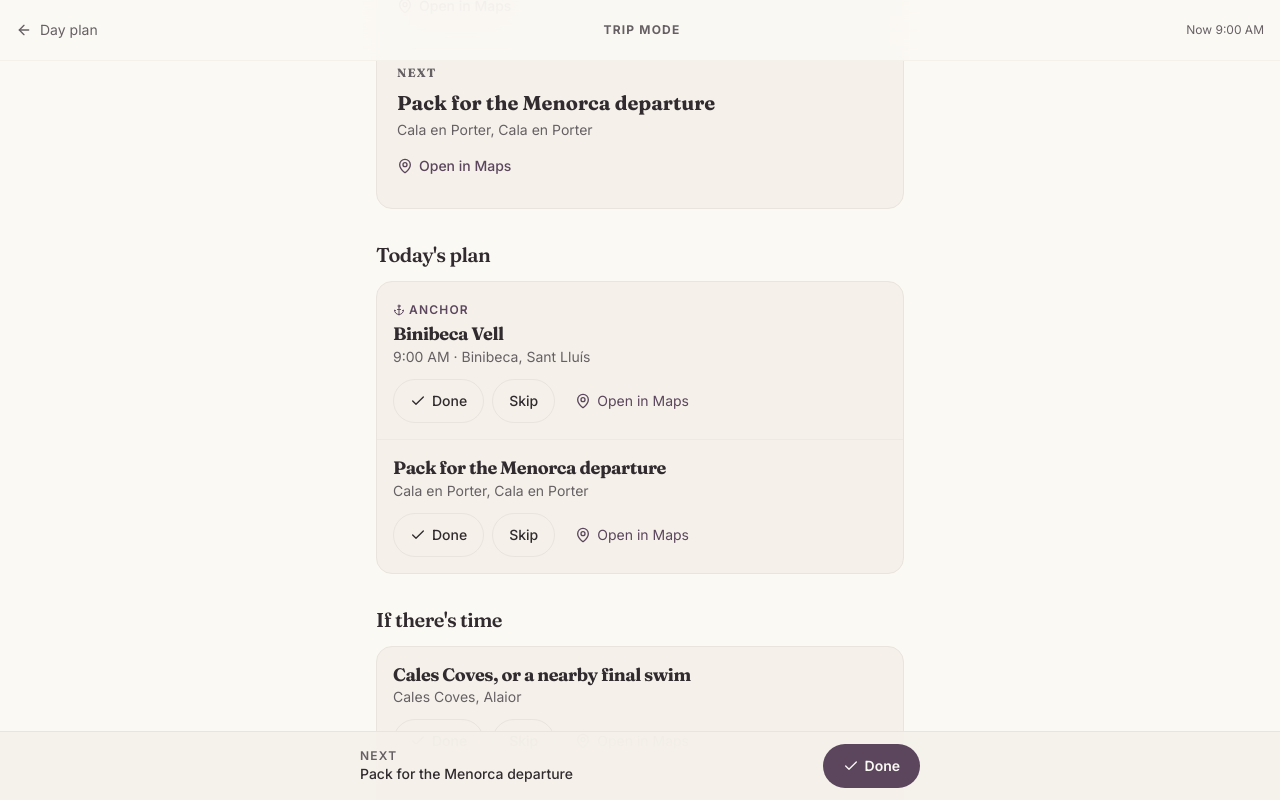
Test: Trip Mode › says when a skipped plan has no backup, and links to replan
(page scrolled)
Click the button with aria-label "Skip Binibeca Vell".
click(524, 401)  # box [492, 379, 555, 423]
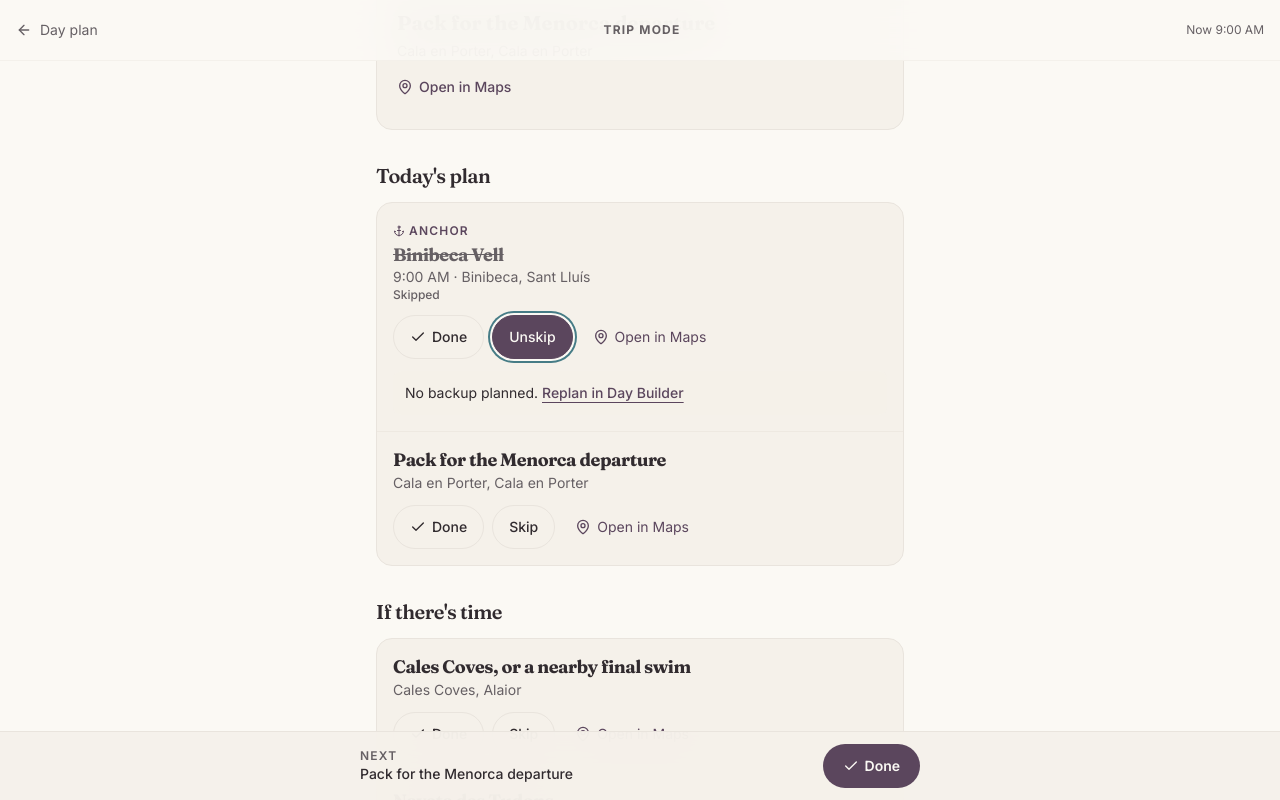
Now the text "No backup planned. Replan in Day Builder" is shown, box [405, 384, 684, 401]
